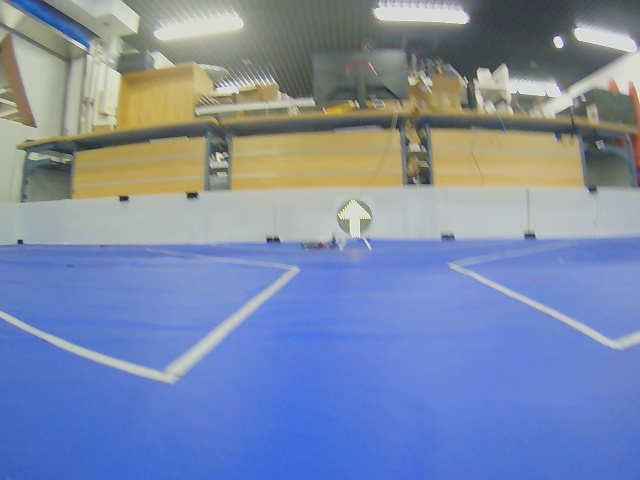straight_yellow: (337, 199, 372, 238)
